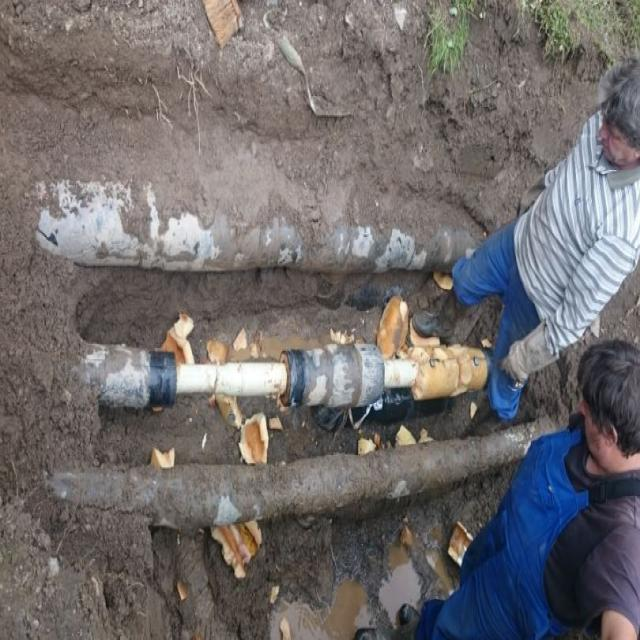gas: (96, 339, 484, 400)
